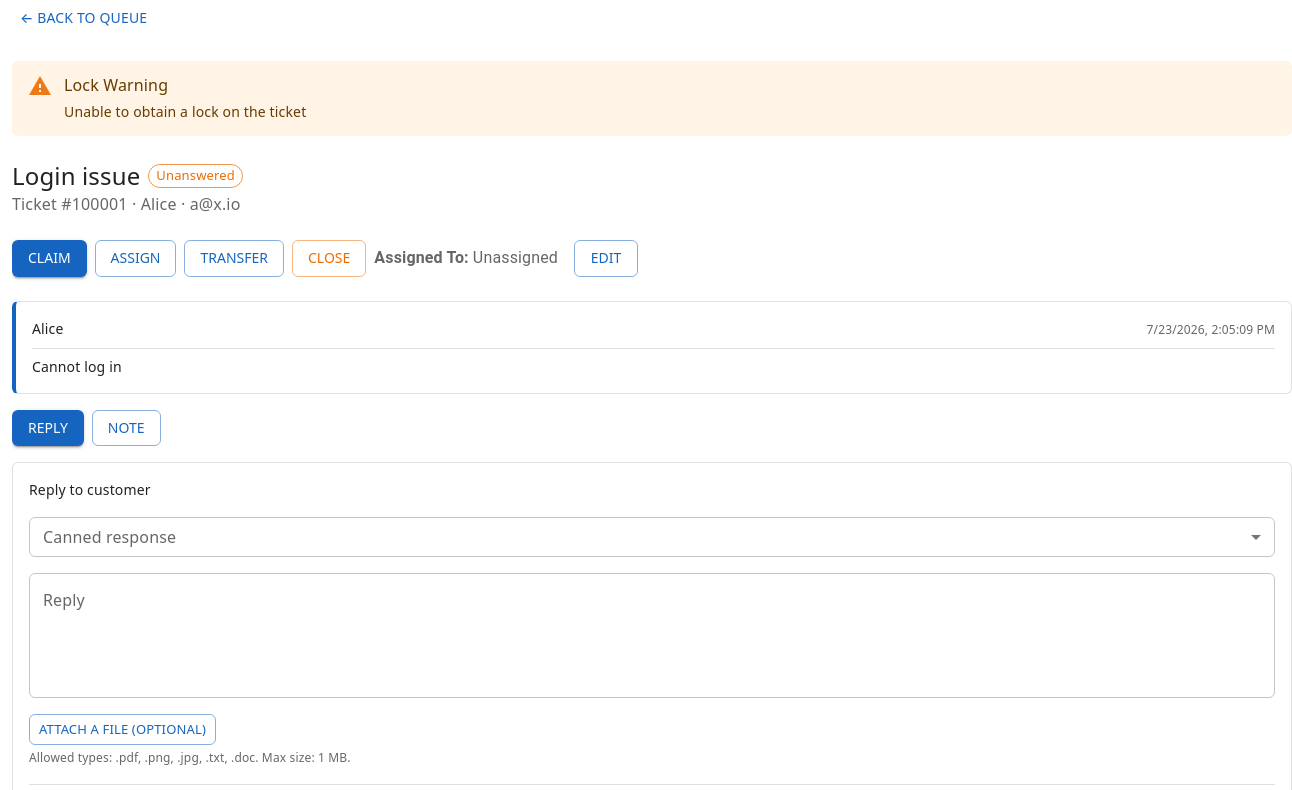
Scenario: Staff UI (TS-M1-C4) › D3-1/2/3/4: canned dropdown lists responses, fills the textarea (substituted), carries a read-only chip, and has an own-file input
expect the button with test id "reply-file-input" is shown: met, box [29,714,216,745]
Click the dropdown named "canned response". click: [652, 537]
box: [29,517,1275,557]
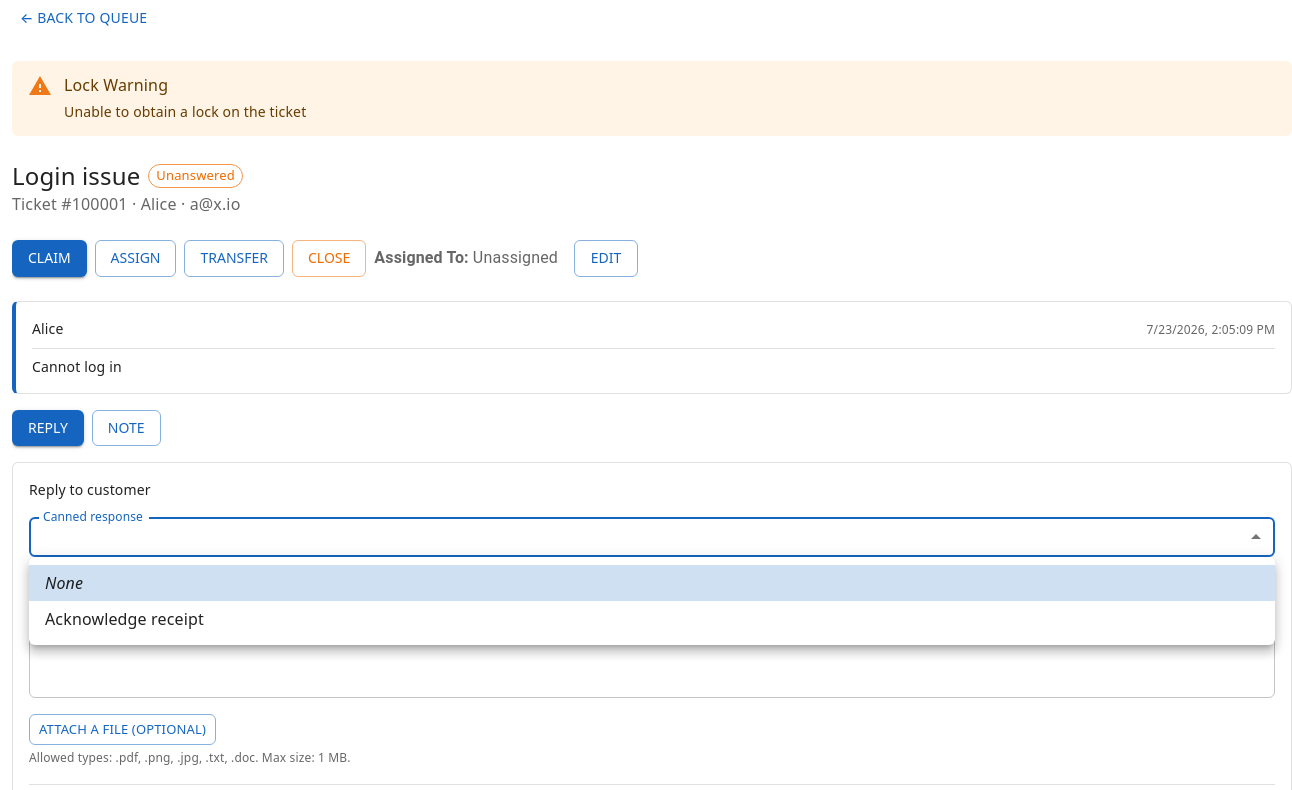
Click the option "Acknowledge receipt". click: [124, 619]
box: [45,608,204,630]
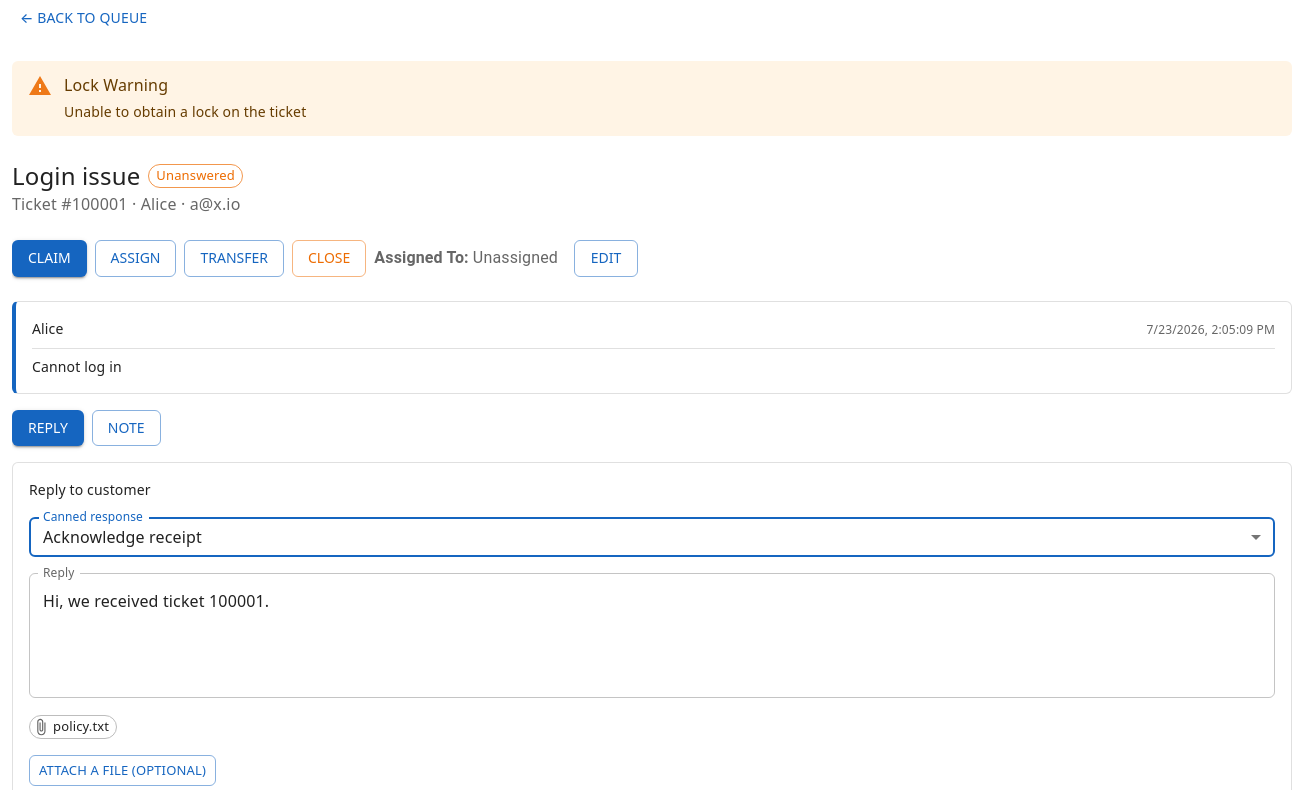
expect the text box with test id "reply-textarea" holds "Hi, we received ticket 100001.": met, box [43,590,1261,682]
expect the element named "policy.txt (from canned response)" is shown: met, box [29,714,117,739]
